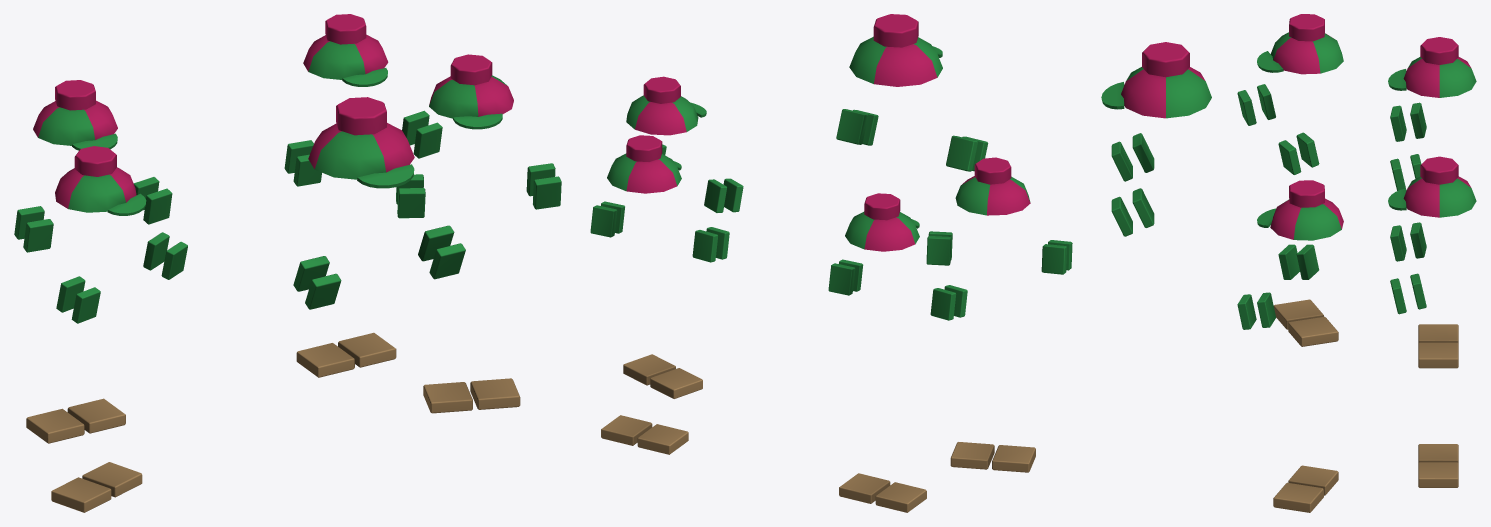
The model's file is silks-stirrups-lod1.glb.
The picture shows the model from 3 angles, left to right: view 1: azimuth 30°, elevation 25°; view 2: azimuth 150°, elevation 25°; view 3: azimuth 270°, elevation 25°; orthographic projection. The views are drawn at different scales.
Parts seen in each view (by area): view 1: cap_hat, att2_hat, att0_hat, att3_hat, att1_hat, cap_arm_l_trim, cap_arm_r_trim, att3_leg_r_trim, att3_arm_r_trim, att0_leg_r_trim, att1_leg_r_trim, att1_arm_r_trim (+11 smaller); view 2: cap_hat, att2_hat, att0_hat, att1_hat, att3_hat, cap_arm_l_trim, cap_arm_r_trim, att2_arm_r_trim, att2_leg_r_trim, att0_leg_r_trim, att1_leg_r_trim, att1_arm_r_trim (+10 smaller); view 3: cap_hat, att1_hat, att0_hat, att3_hat, att2_hat, att2_arm_r_trim, att2_leg_l_trim, att3_leg_l_trim, cap_arm_l_trim, cap_arm_r_trim, att1_leg_l_trim, att0_leg_l_trim (+11 smaller).
Part boxes in pixels (bbox=[...]): cap_hat: bbox=[308, 97, 414, 188]; att2_hat: bbox=[429, 54, 513, 129]; att0_hat: bbox=[303, 14, 388, 86]; att3_hat: bbox=[55, 146, 146, 215]; att1_hat: bbox=[33, 80, 117, 150]; cap_arm_l_trim: bbox=[418, 225, 465, 279]; cap_arm_r_trim: bbox=[293, 256, 341, 309]; att3_leg_r_trim: bbox=[51, 477, 111, 512]; att3_arm_r_trim: bbox=[56, 276, 100, 323]; att0_leg_r_trim: bbox=[296, 343, 354, 377]; att1_leg_r_trim: bbox=[26, 408, 84, 443]; att1_arm_r_trim: bbox=[14, 206, 53, 252]; cap_hat: bbox=[849, 14, 942, 86]; att2_hat: bbox=[626, 76, 706, 135]; att0_hat: bbox=[607, 135, 681, 193]; att1_hat: bbox=[845, 193, 919, 251]; att3_hat: bbox=[955, 157, 1030, 215]; cap_arm_l_trim: bbox=[836, 109, 878, 145]; cap_arm_r_trim: bbox=[946, 135, 988, 171]; att2_arm_r_trim: bbox=[704, 178, 743, 212]; att2_leg_r_trim: bbox=[650, 368, 702, 398]; att0_leg_r_trim: bbox=[637, 424, 688, 454]; att1_leg_r_trim: bbox=[875, 482, 926, 512]; att1_arm_r_trim: bbox=[930, 285, 967, 320]; cap_hat: bbox=[1101, 42, 1211, 118]; att1_hat: bbox=[1388, 37, 1476, 97]; att0_hat: bbox=[1388, 156, 1476, 217]; att3_hat: bbox=[1257, 14, 1343, 74]; att2_hat: bbox=[1257, 180, 1343, 240]; att2_arm_r_trim: bbox=[1278, 244, 1319, 279]; att2_leg_l_trim: bbox=[1273, 482, 1323, 512]; att3_leg_l_trim: bbox=[1288, 316, 1338, 346]; cap_arm_l_trim: bbox=[1111, 188, 1154, 236]; cap_arm_r_trim: bbox=[1111, 133, 1154, 181]; att1_leg_l_trim: bbox=[1418, 342, 1458, 368]; att0_leg_l_trim: bbox=[1418, 462, 1458, 487].
Bounding box in the file's own units: 2.28 × 1.74 × 1.64.
